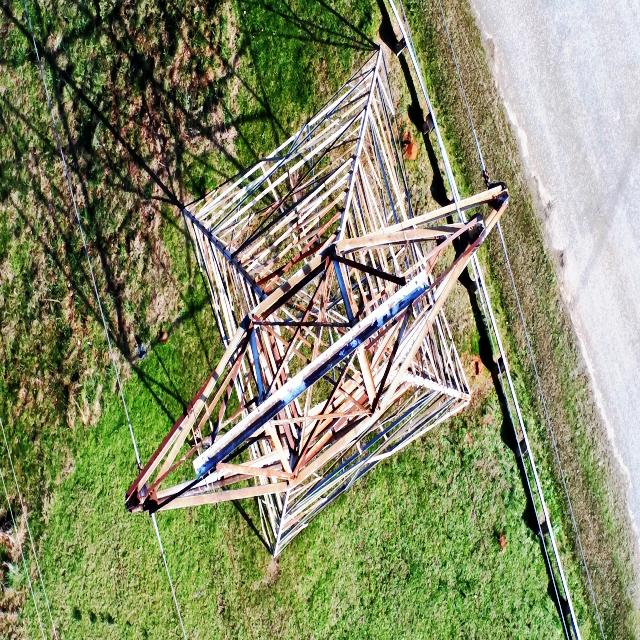poles: (125, 45, 509, 558)
wires: (23, 0, 140, 470), (496, 219, 605, 640), (470, 255, 580, 640), (388, 0, 466, 220), (440, 4, 509, 205), (0, 418, 58, 640), (165, 560, 187, 640), (153, 520, 165, 559)
